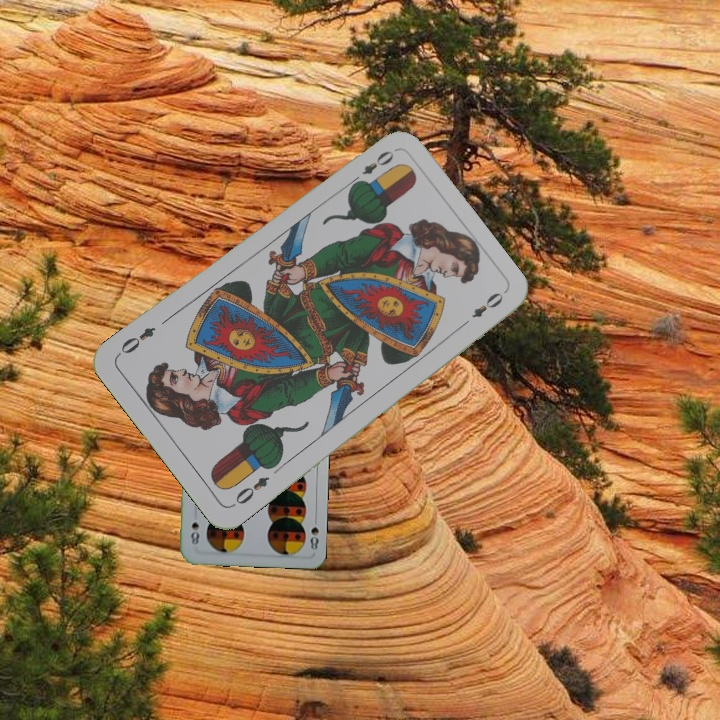EO: (346, 146, 397, 188), (228, 472, 272, 510)
S8: (306, 512, 321, 552)
